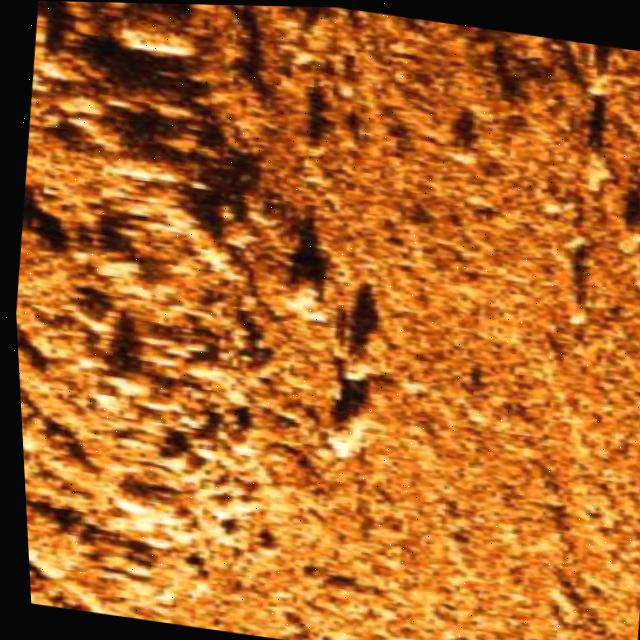bedrock group: (0, 0, 461, 640)
